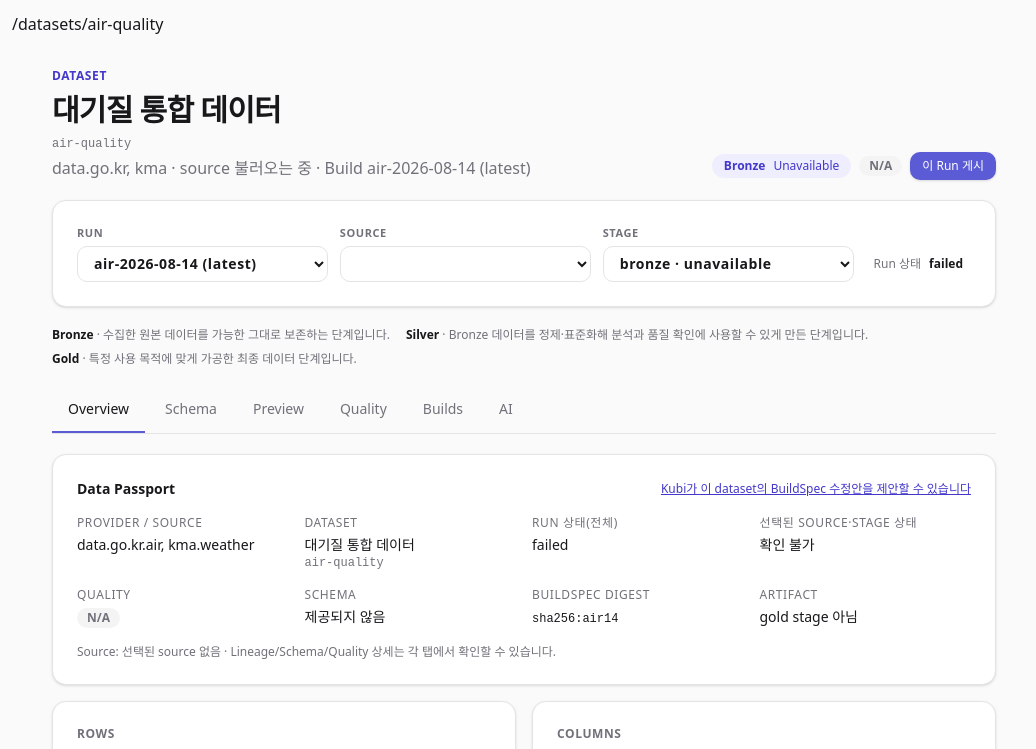
Scenario: Dataset Detail P0 (#253) › propagates the known latest-run context to Kubi when opening the AI tab, not '—' (audit #5)
This screenshot has width=1036, height=749.
Expected: the dropdown named "Run 선택" is shown, [77,246,328,282]
Click the tab "AI" at (506, 410), box [483,386,529,432]
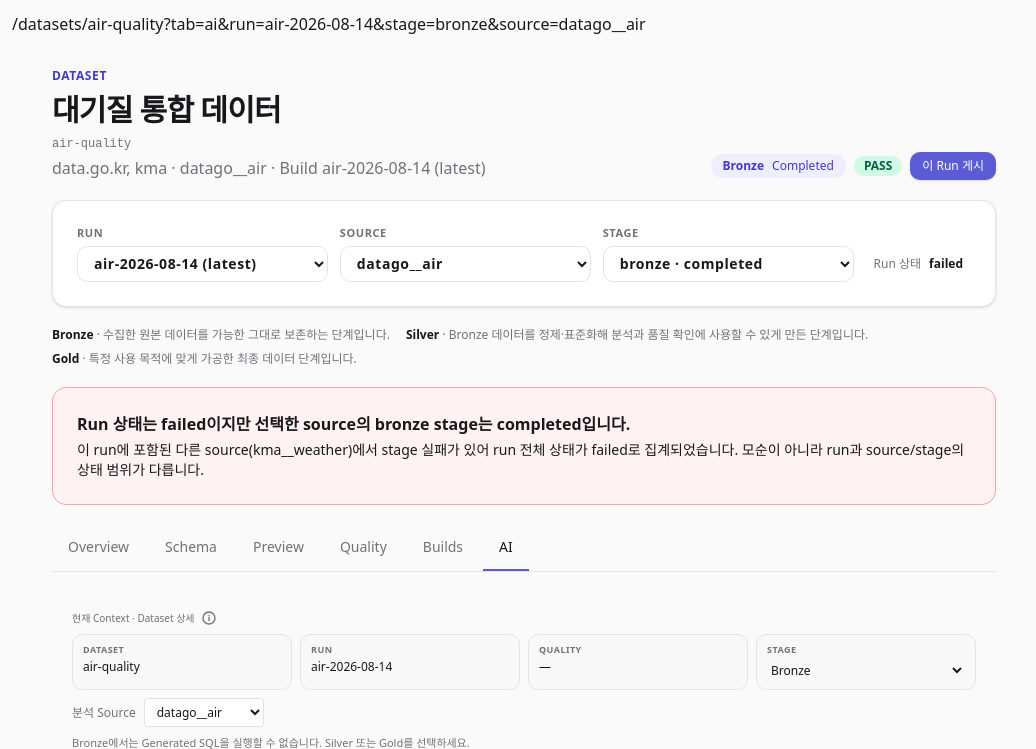
Expected: the text with test id "location" shows "run=air-2026-08-14", [164,13,646,35]
Expected: the text "air-2026-08-14" is shown, [311,658,392,674]
